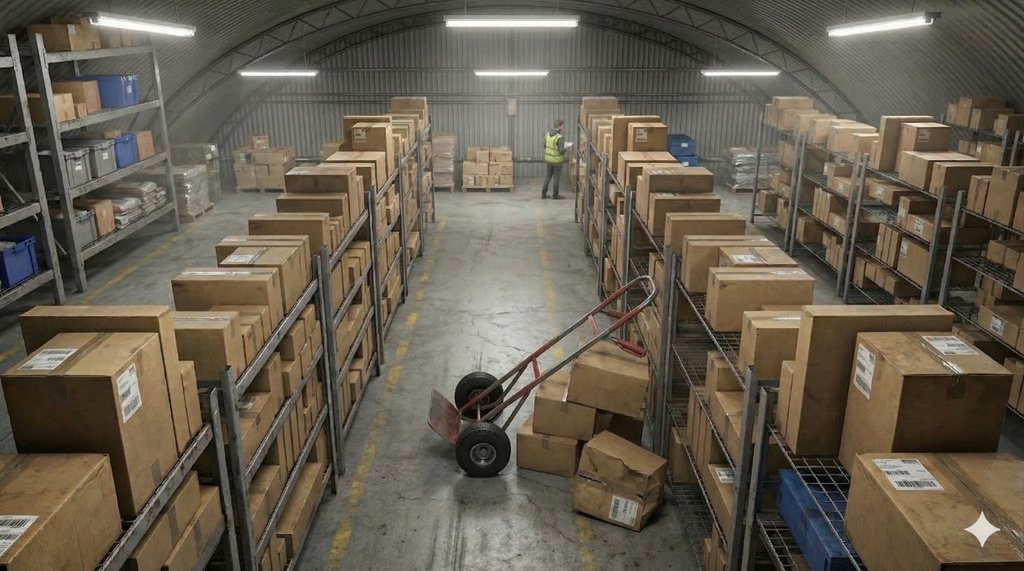obstacle: (375, 263, 709, 554)
person: (536, 116, 587, 219)
safety_vest: (539, 130, 577, 175)
